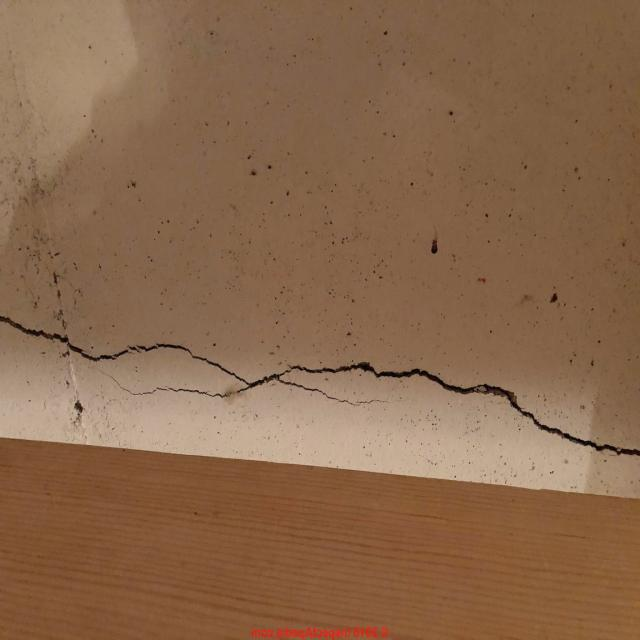Wall_Cracks: (3, 231, 637, 602)
